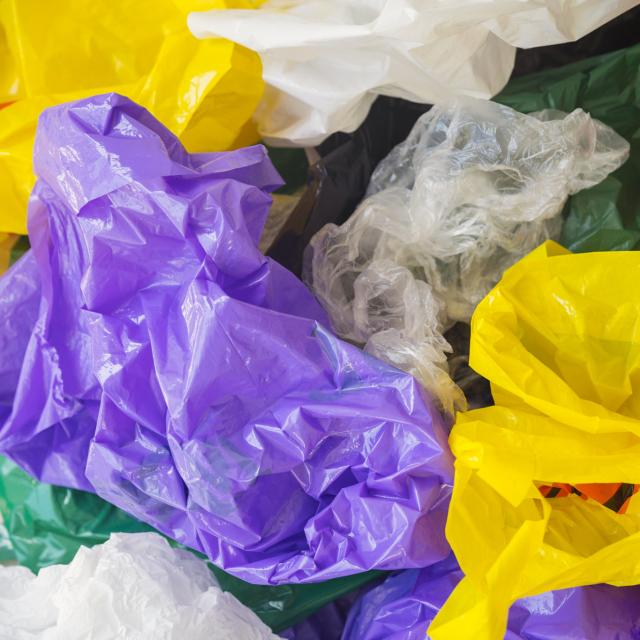Single-layer Plastic: (0, 94, 452, 584), (304, 96, 629, 425), (428, 241, 640, 639), (188, 0, 640, 146), (0, 0, 264, 234), (494, 44, 640, 252), (0, 532, 278, 640), (0, 455, 155, 572), (211, 565, 386, 633), (341, 553, 464, 640), (505, 584, 640, 640)
